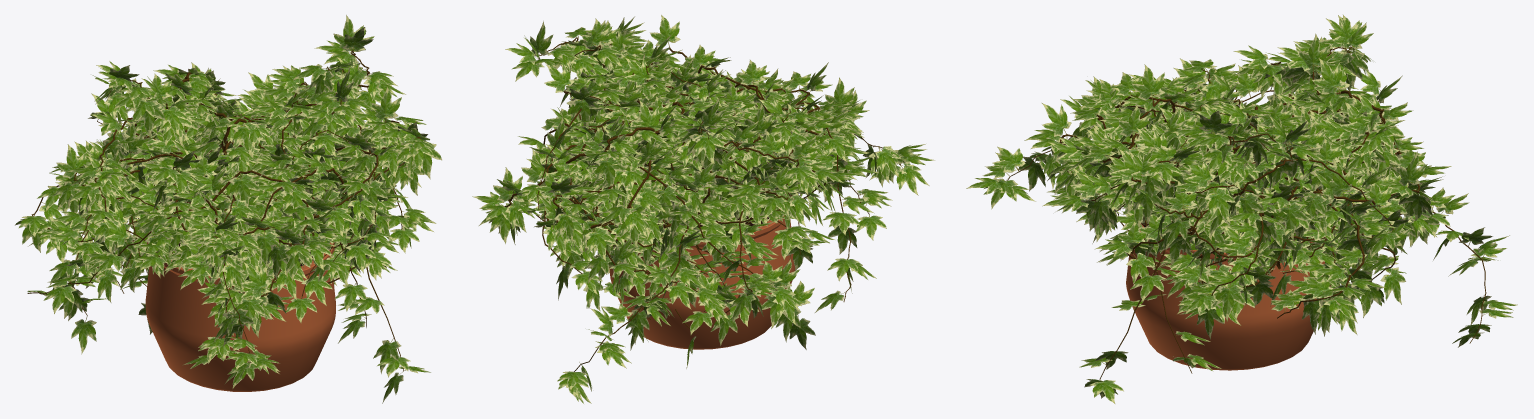
3 renders of one model, left to right at view 1: azimuth 30°, elevation 25°; view 2: azimuth 150°, elevation 25°; view 3: azimuth 270°, elevation 25°, orthographic. The views are drawn at different scales.
Parts seen in each view (by area): view 1: Leafe; view 2: Leafe; view 3: Leafe.
Boxes of the visible parts, box(x1,y1,x2,y2) form: Leafe: box(15, 15, 441, 403); Leafe: box(472, 15, 934, 403); Leafe: box(966, 15, 1517, 403).
Size of the model in its own units: 51.92 by 32.66 by 40.68.
Materials: 4 (1 with a texture image).
